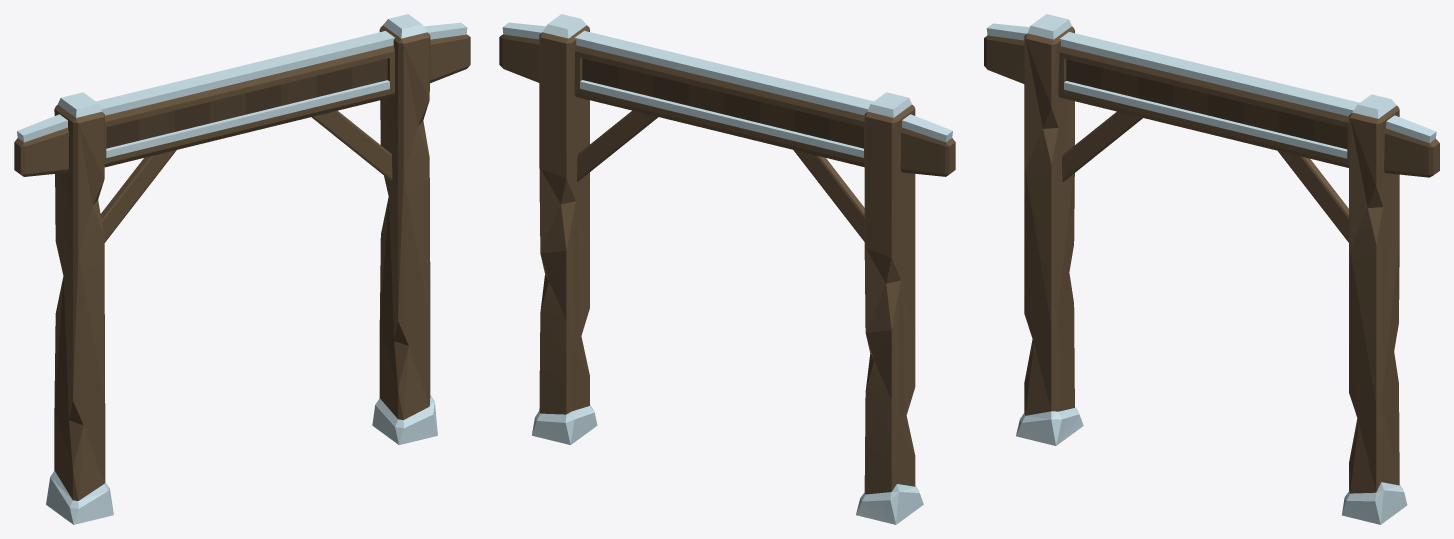
File: Arco_Entrada01.glb
The picture shows the model from 3 angles, left to right: view 1: azimuth 30°, elevation 25°; view 2: azimuth 150°, elevation 25°; view 3: azimuth 330°, elevation 25°; orthographic projection.
Visible parts, largest first — view 1: SM_Prop_Archway_01_Snow; view 2: SM_Prop_Archway_01_Snow; view 3: SM_Prop_Archway_01_Snow.
Boxes of the visible parts, x1,y1,x2,y2 form: SM_Prop_Archway_01_Snow: (14,14,470,524); SM_Prop_Archway_01_Snow: (499,14,955,524); SM_Prop_Archway_01_Snow: (984,14,1439,524).
Size of the model in its own units: 3.4 by 2.95 by 0.3634.
Materials: 1 (1 with a texture image).
